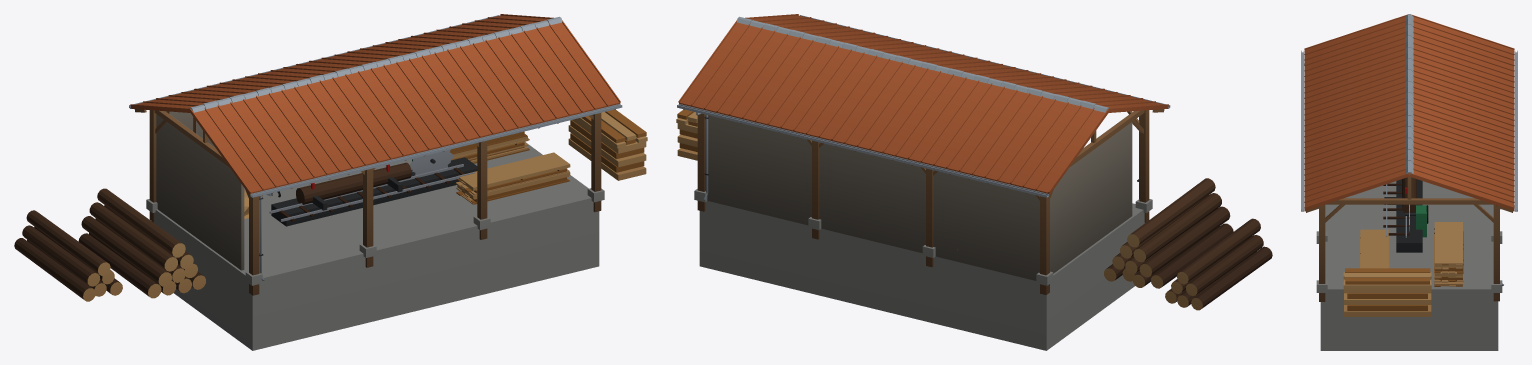
Rendered from Sawmill.fbx.
3 views of the same model, side by side, from view 1: azimuth 30°, elevation 25°; view 2: azimuth 150°, elevation 25°; view 3: azimuth 270°, elevation 25° (orthographic). The views are drawn at different scales.
Parts seen in each view (by area): view 1: Sawmill_LOD0; view 2: Sawmill_LOD0; view 3: Sawmill_LOD0.
Boxes of the visible parts, box(x1,y1,x2,y2) form: Sawmill_LOD0: box(14, 14, 647, 350); Sawmill_LOD0: box(676, 14, 1272, 350); Sawmill_LOD0: box(1301, 14, 1517, 350).
Size of what is drawn, in the model's own units: 25.82 by 9.3 by 9.92.
Materials: 1 (1 with a texture image).
